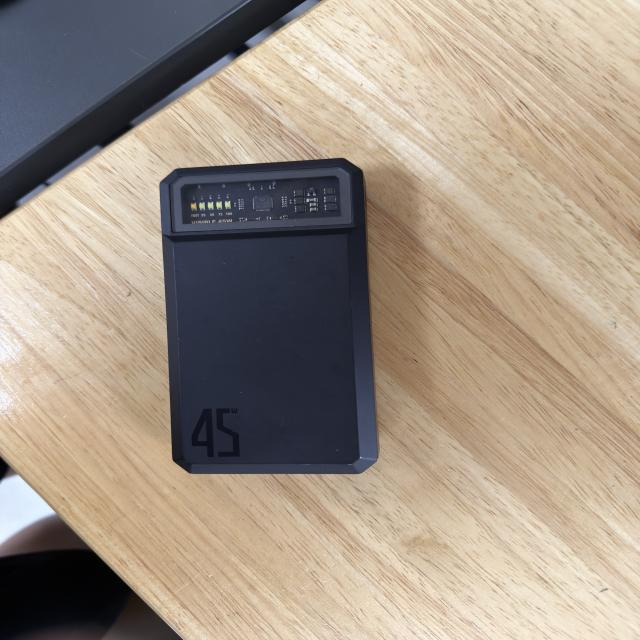power bank: (158, 156, 384, 478)
